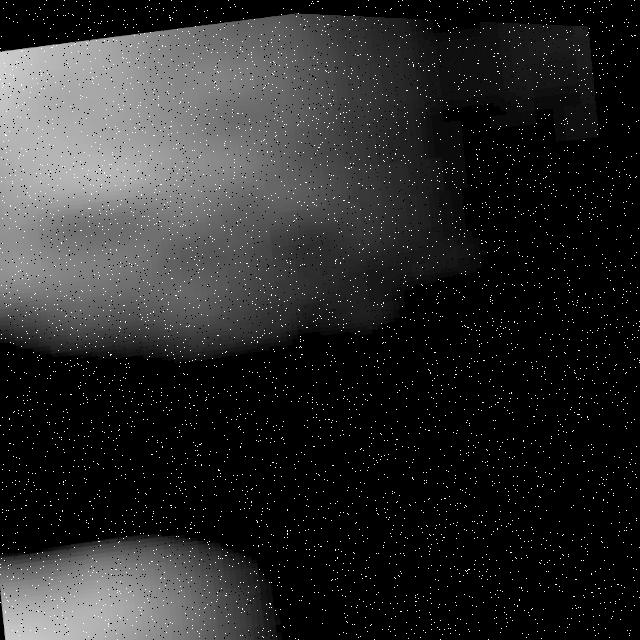person: (1, 1, 491, 335), (1, 495, 319, 640)
